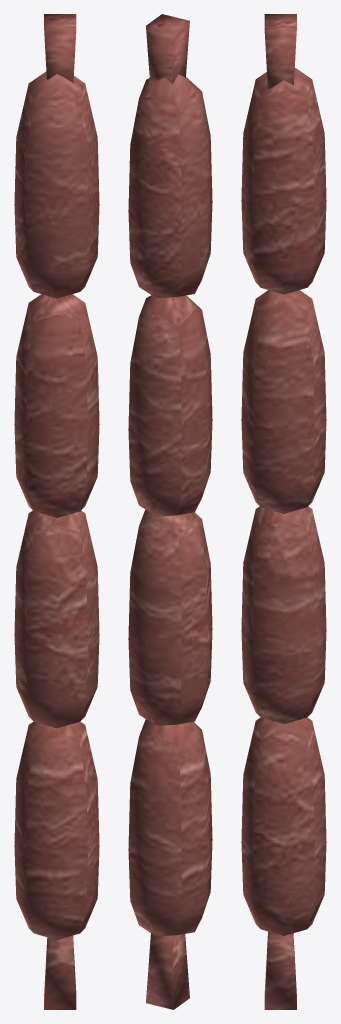
File: Sausage.fbx
3 renders of one model, left to right at view 1: azimuth 90°, elevation 25°; view 2: azimuth 150°, elevation 25°; view 3: azimuth 270°, elevation 25°, orthographic.
Visible parts, largest first — view 1: Cube.024; view 2: Cube.024; view 3: Cube.024.
Boxes of the visible parts, box(x1,y1,x2,y2) form: Cube.024: box(14, 14, 99, 1009); Cube.024: box(128, 14, 212, 1009); Cube.024: box(241, 14, 326, 1009).
Size of the model in its own units: 9.94 by 127 by 9.94.
1 material, 1 textured.
